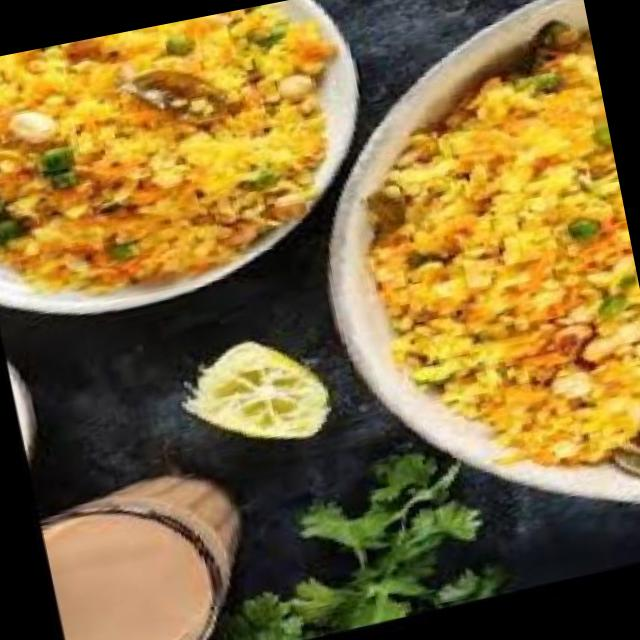poha: (326, 17, 640, 510), (0, 0, 378, 322)
